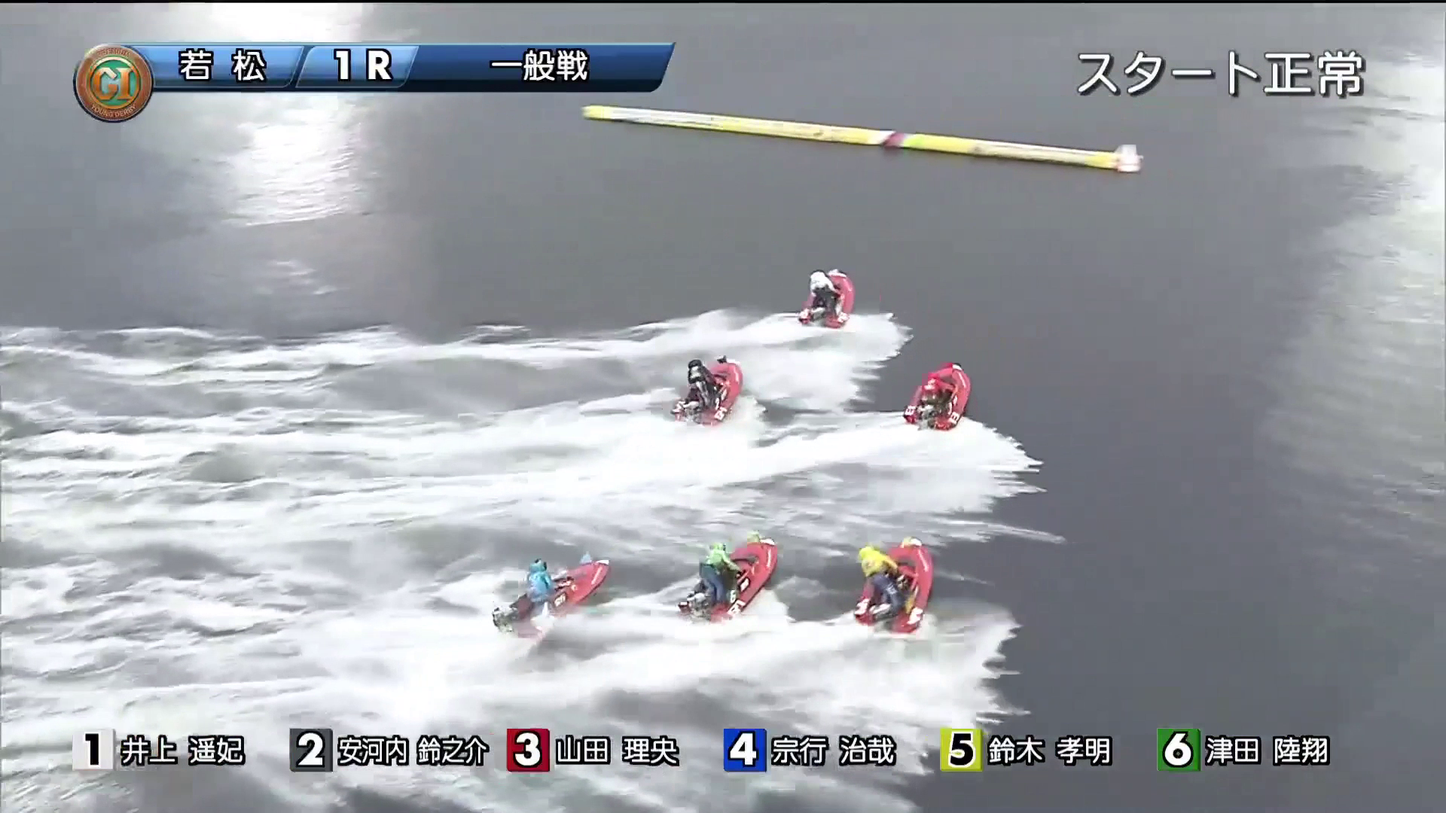１号艇: (776, 267, 874, 321)
２号艇: (645, 355, 773, 415)
３号艇: (877, 378, 992, 425)
４号艇: (642, 541, 776, 606)
５号艇: (454, 569, 578, 624)
６号艇: (836, 541, 935, 598)
